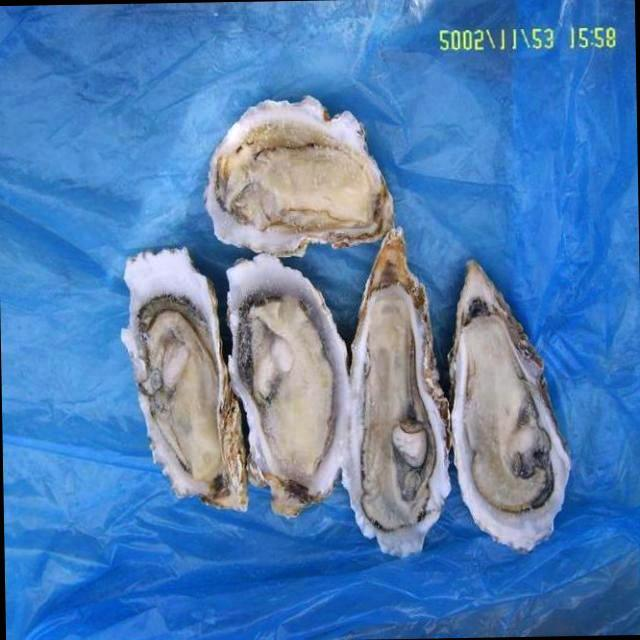Oyster-Open: (342, 227, 453, 555), (118, 247, 250, 515), (450, 260, 570, 552), (225, 252, 352, 520), (204, 97, 396, 257)
